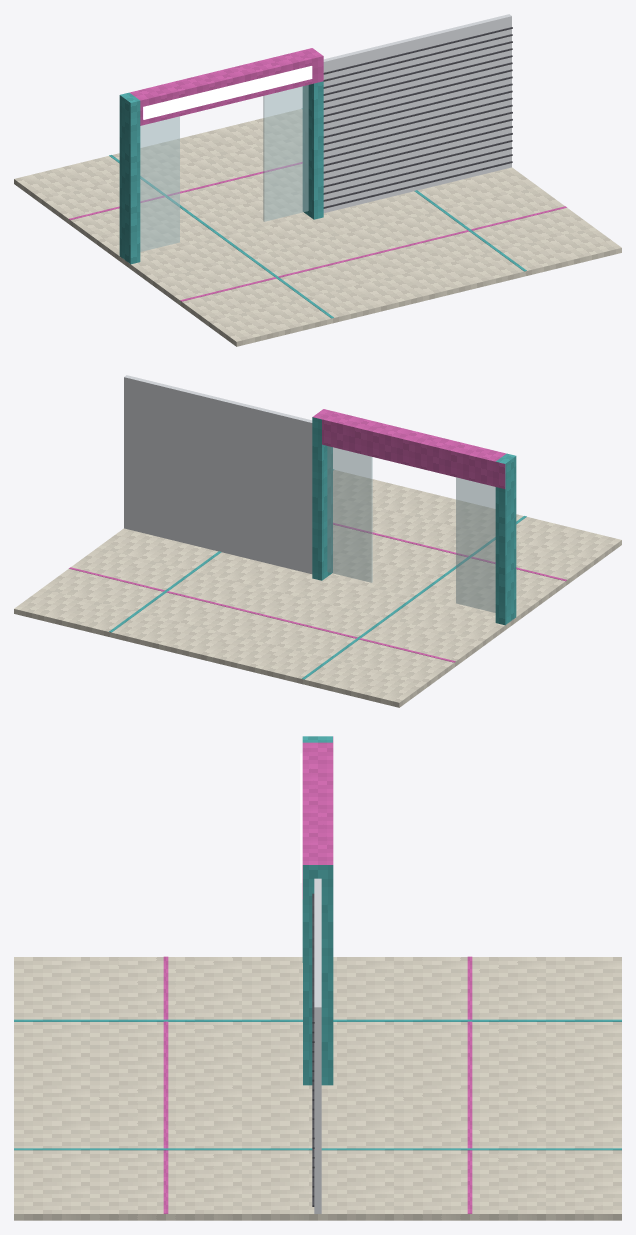
The model's file is retro-arcade-and-mall-1989-storefront-connector-cases-f7dc47c5__15572.glb.
3 views of the same model, one above another, from view 1: azimuth 30°, elevation 25°; view 2: azimuth 150°, elevation 25°; view 3: azimuth 270°, elevation 25° (orthographic). The views are drawn at different scales.
Parts seen in each view (by area): view 1: 001-roller-shutter/0, 003-tile-floor/0, 005-tile-floor/0, 002-tile-floor/0, 000-storefront-display/3, 001-roller-shutter/1, 000-storefront-display/0, 000-storefront-display/1, 004-tile-floor/0, 000-storefront-display/2, 003-tile-floor/2, 005-tile-floor/2; view 2: 001-roller-shutter/0, 002-tile-floor/0, 004-tile-floor/0, 003-tile-floor/0, 000-storefront-display/3, 000-storefront-display/1, 000-storefront-display/0, 005-tile-floor/0, 002-tile-floor/2, 004-tile-floor/2; view 3: 004-tile-floor/0, 005-tile-floor/0, 002-tile-floor/0, 003-tile-floor/0, 000-storefront-display/0, 000-storefront-display/1, 001-roller-shutter/0, 001-roller-shutter/1, 004-tile-floor/1, 005-tile-floor/1, 002-tile-floor/1, 003-tile-floor/1 (+4 smaller).
Boxes of the visible parts, <box> form: 001-roller-shutter/0: <box>323,14,511,212</box>; 003-tile-floor/0: <box>125,215,429,346</box>; 005-tile-floor/0: <box>323,167,621,299</box>; 002-tile-floor/0: <box>14,132,307,264</box>; 000-storefront-display/3: <box>140,85,308,251</box>; 001-roller-shutter/1: <box>323,27,512,208</box>; 000-storefront-display/0: <box>119,81,323,264</box>; 000-storefront-display/1: <box>129,48,323,125</box>; 004-tile-floor/0: <box>207,109,302,201</box>; 000-storefront-display/2: <box>143,66,312,119</box>; 003-tile-floor/2: <box>180,253,373,301</box>; 005-tile-floor/2: <box>373,206,566,254</box>; 001-roller-shutter/0: <box>124,375,312,573</box>; 002-tile-floor/0: <box>206,576,510,707</box>; 004-tile-floor/0: <box>14,528,312,660</box>; 003-tile-floor/0: <box>328,493,621,625</box>; 000-storefront-display/3: <box>327,446,495,612</box>; 000-storefront-display/1: <box>313,409,506,488</box>; 000-storefront-display/0: <box>312,417,516,625</box>; 005-tile-floor/0: <box>333,470,428,562</box>; 002-tile-floor/2: <box>262,614,455,662</box>; 004-tile-floor/2: <box>69,567,262,615</box>; 004-tile-floor/0: <box>318,1085,621,1220</box>; 005-tile-floor/0: <box>14,1085,317,1220</box>; 002-tile-floor/0: <box>333,957,621,1085</box>; 003-tile-floor/0: <box>14,957,302,1085</box>; 000-storefront-display/0: <box>302,736,333,1085</box>; 000-storefront-display/1: <box>302,736,333,898</box>; 001-roller-shutter/0: <box>314,878,321,1213</box>; 001-roller-shutter/1: <box>312,893,314,1206</box>; 004-tile-floor/1: <box>321,1148,621,1150</box>; 005-tile-floor/1: <box>14,1148,312,1150</box>; 002-tile-floor/1: <box>333,1019,621,1021</box>; 003-tile-floor/1: <box>14,1019,302,1021</box>.
Bounding box in the file's own units: 8 × 3.3 × 8.
7 materials, 4 textured.
